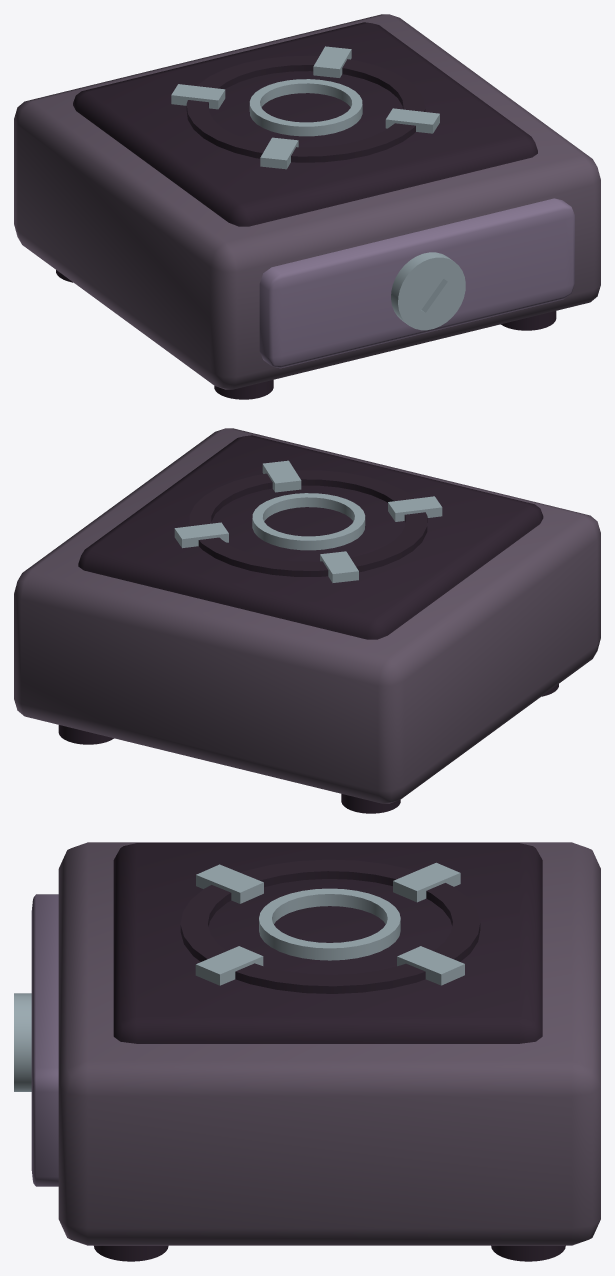
The model's file is palnik.gltf.
The picture shows the model from 3 angles, top to bottom: view 1: azimuth 30°, elevation 25°; view 2: azimuth 150°, elevation 25°; view 3: azimuth 270°, elevation 25°; orthographic projection. The views are drawn at different scales.
Parts seen in each view (by area): view 1: Cube, Cube.002, Cube.001, Circle, Cylinder, Circle.001, Cube.004, Cube.003, Cylinder.001; view 2: Cube, Cube.002, Circle, Circle.001, Cube.003, Cube.004, Cylinder.001; view 3: Cube, Cube.002, Circle, Cube.001, Circle.001, Cube.004, Cube.003, Cylinder.001, Cylinder.
Boxes of the visible parts, x1,y1,x2,y2 form: Cube: (14, 14, 600, 389); Cube.002: (73, 22, 537, 226); Cube.001: (259, 198, 574, 368); Circle: (186, 55, 425, 162); Cylinder: (391, 252, 465, 330); Circle.001: (249, 79, 362, 136); Cube.004: (171, 84, 439, 133); Cube.003: (260, 46, 351, 169); Cylinder.001: (56, 270, 556, 399); Cube: (14, 428, 600, 803); Cube.002: (78, 435, 543, 639); Circle: (189, 470, 427, 576); Circle.001: (252, 493, 365, 550); Cube.003: (174, 496, 442, 548); Cube.004: (262, 460, 358, 582); Cylinder.001: (58, 684, 558, 813); Cube: (58, 842, 600, 1245); Cube.002: (113, 843, 542, 1043); Circle: (180, 859, 480, 993); Cube.001: (31, 894, 58, 1186); Circle.001: (259, 888, 400, 960); Cube.004: (195, 862, 460, 985); Cube.003: (196, 864, 464, 985); Cylinder.001: (94, 1245, 565, 1261); Cylinder: (14, 993, 31, 1091).
Size of the model in its own units: 1.92 by 0.909 by 2.01.
